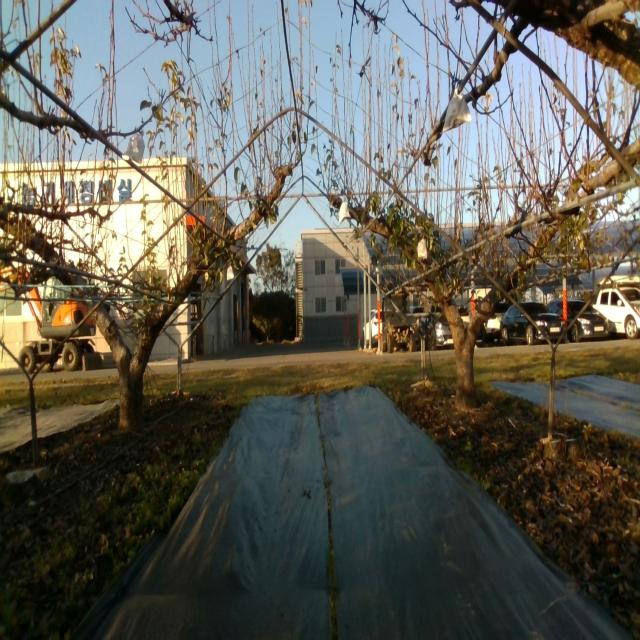pearbags: (443, 83, 472, 136), (122, 127, 145, 165), (339, 201, 352, 224), (418, 236, 428, 260)
